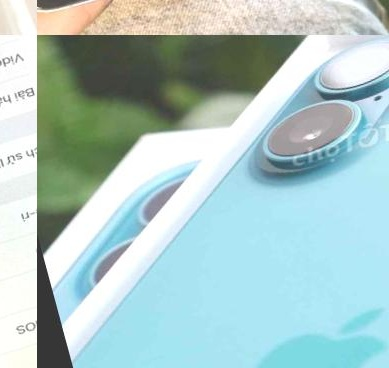scratch: (37, 0, 45, 15)
